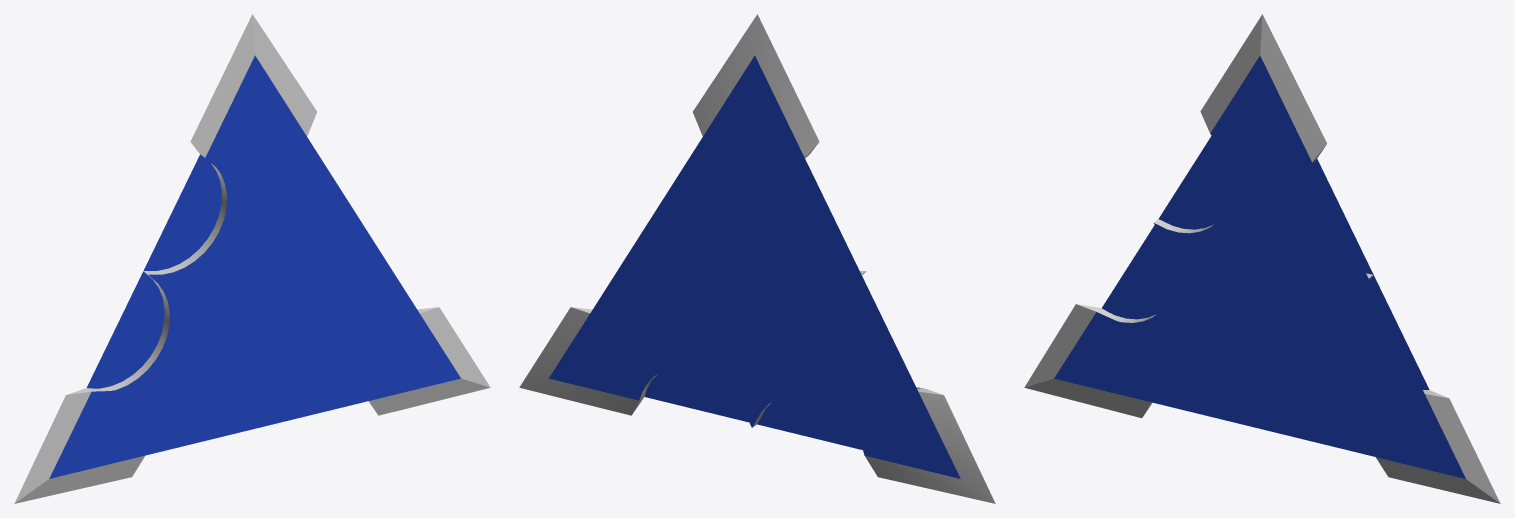
File: Shuriken_10.fbx
3 renders of one model, left to right at view 1: azimuth 30°, elevation 25°; view 2: azimuth 150°, elevation 25°; view 3: azimuth 330°, elevation 25°, orthographic.
Parts seen in each view (by area): view 1: Shuriken_10; view 2: Shuriken_10; view 3: Shuriken_10.
Part boxes in pixels (left/top/right/bottom): Shuriken_10: left=14, top=14, right=490, bottom=503; Shuriken_10: left=519, top=14, right=995, bottom=503; Shuriken_10: left=1024, top=14, right=1500, bottom=503.
Size of the model in its own units: 2 by 1.74 by 0.0368.
